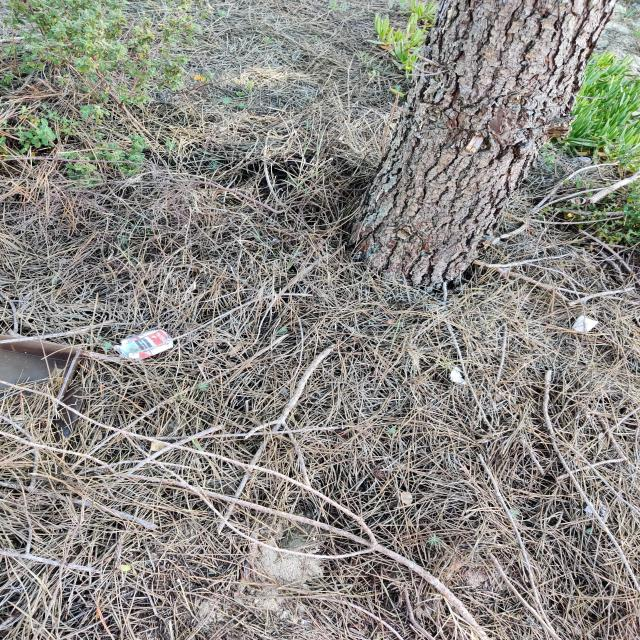litter: (71, 316, 189, 376)
